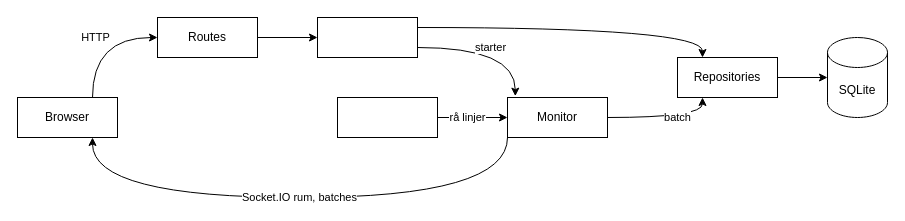
The diagram is 905 pixels wide and 221 high, and some of its shapes have lost their labels. The shapes that lost their labels are listed below. From the top down, each one's centre as x and y in pixels, then its label:
the point at 367,37: Services
the point at 387,117: Twitch IRC
